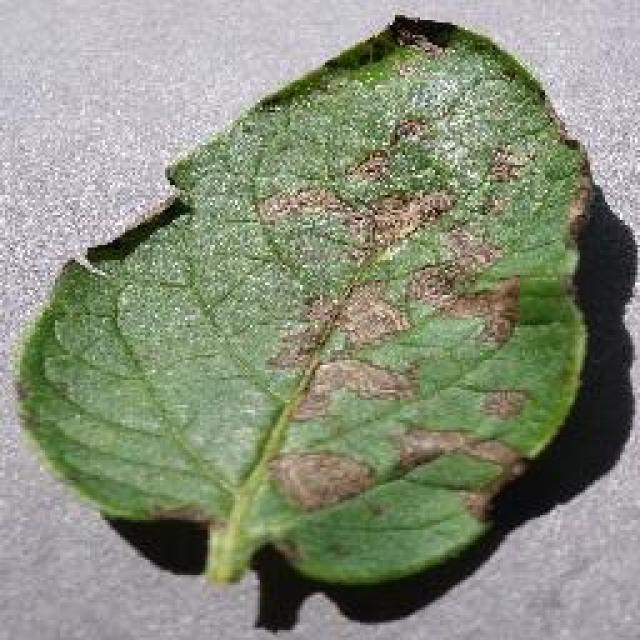Potato: (13, 12, 595, 588)
